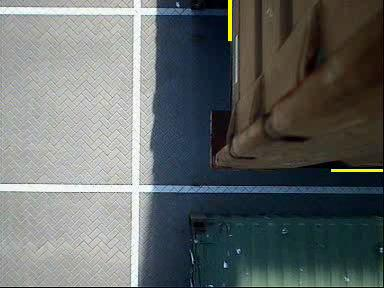groundmarker_2: (103, 227, 165, 267), (100, 92, 162, 131)
